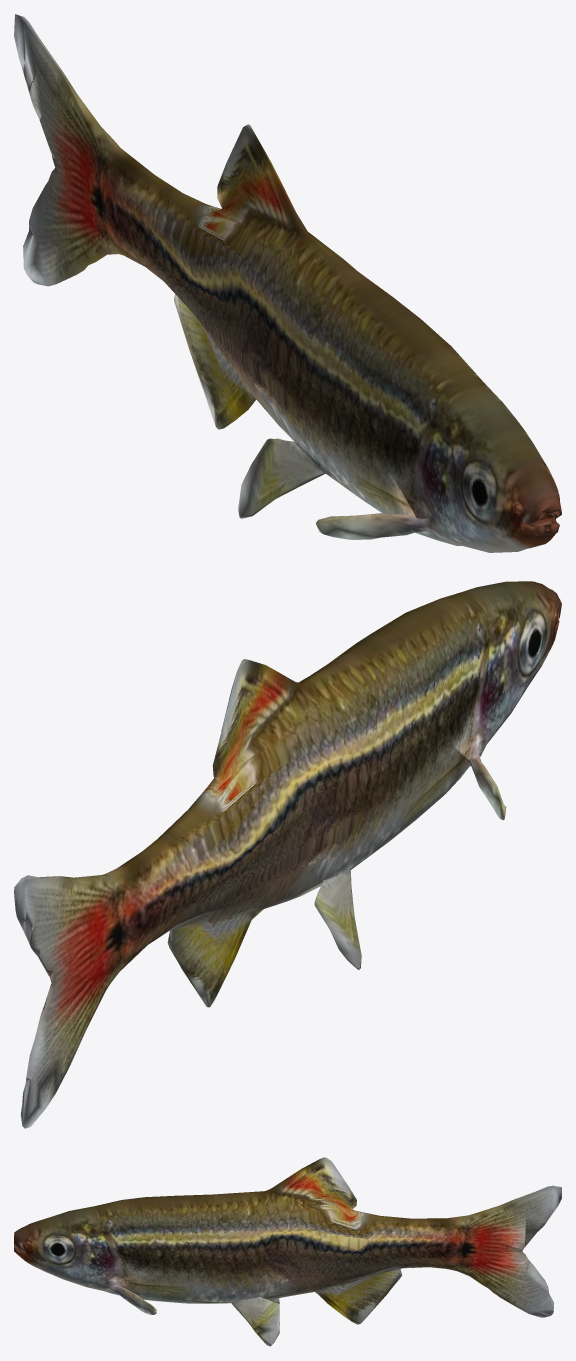
The model's file is tanichthys.lo.glb.
3 renders of one model, top to bottom at view 1: azimuth 30°, elevation 25°; view 2: azimuth 150°, elevation 25°; view 3: azimuth 270°, elevation 25°, orthographic. The views are drawn at different scales.
Parts seen in each view (by area): view 1: tanichthys_tex; view 2: tanichthys_tex; view 3: tanichthys_tex.
Part boxes in pixels (x1,y1,x2,y2): tanichthys_tex: (14, 14, 561, 552); tanichthys_tex: (14, 581, 561, 1128); tanichthys_tex: (14, 1157, 561, 1346).
Bounding box in the file's own units: 0.00905 × 0.0146 × 0.042.
Materials: 2 (2 with a texture image).
